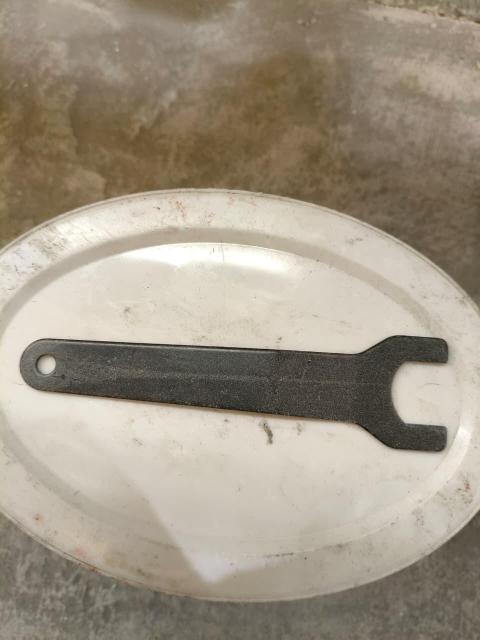Metal: (20, 332, 455, 457)
